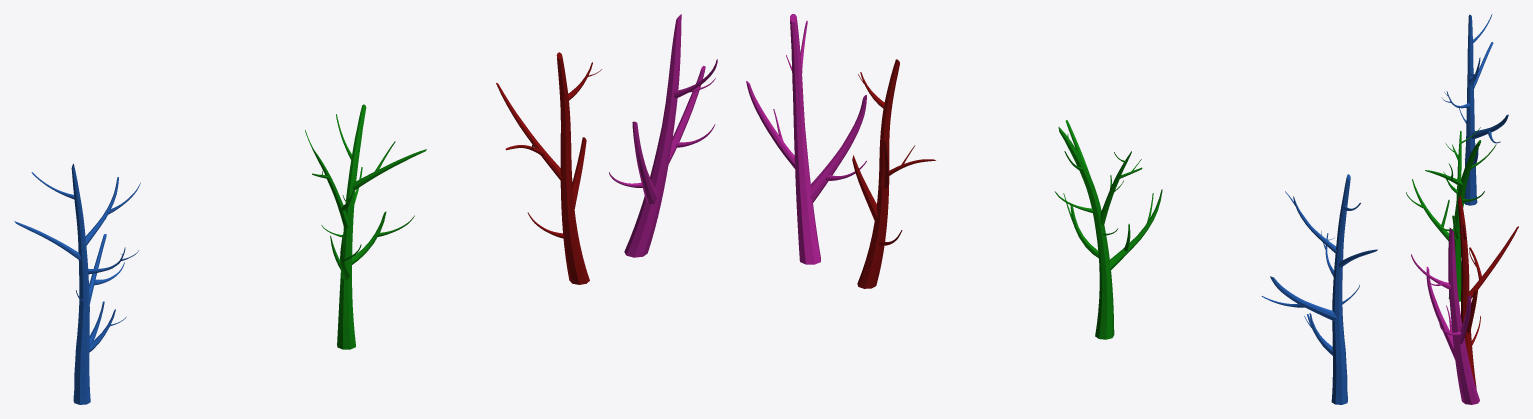
File: tree_0308.obj
3 views of the same model, side by side, from view 1: azimuth 30°, elevation 25°; view 2: azimuth 150°, elevation 25°; view 3: azimuth 270°, elevation 25° (orthographic). The views are drawn at different scales.
Parts seen in each view (by area): view 1: tree004, tree003, tree001, tree002; view 2: tree004, tree002, tree003, tree001; view 3: tree004, tree003, tree002, tree001.
Part boxes in pixels (bbox=[...]): tree004: bbox=[609, 14, 717, 257]; tree003: bbox=[14, 163, 140, 404]; tree001: bbox=[496, 52, 601, 284]; tree002: bbox=[305, 104, 426, 349]; tree004: bbox=[746, 14, 866, 264]; tree002: bbox=[1054, 120, 1162, 339]; tree003: bbox=[1261, 174, 1377, 404]; tree001: bbox=[852, 59, 935, 288]; tree004: bbox=[1411, 227, 1479, 404]; tree003: bbox=[1441, 14, 1508, 205]; tree002: bbox=[1406, 127, 1496, 301]; tree001: bbox=[1458, 195, 1518, 388].
Bounding box in the file's own units: 46.17 × 16.54 × 8.67.
